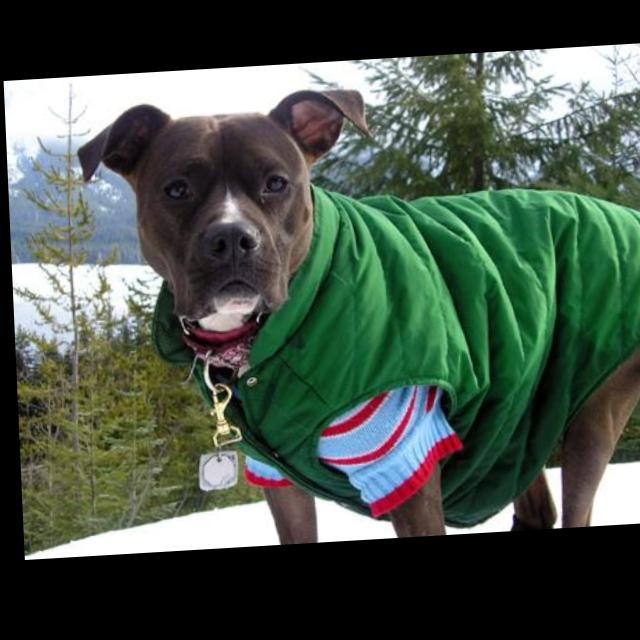amstaff: (75, 76, 640, 557)
